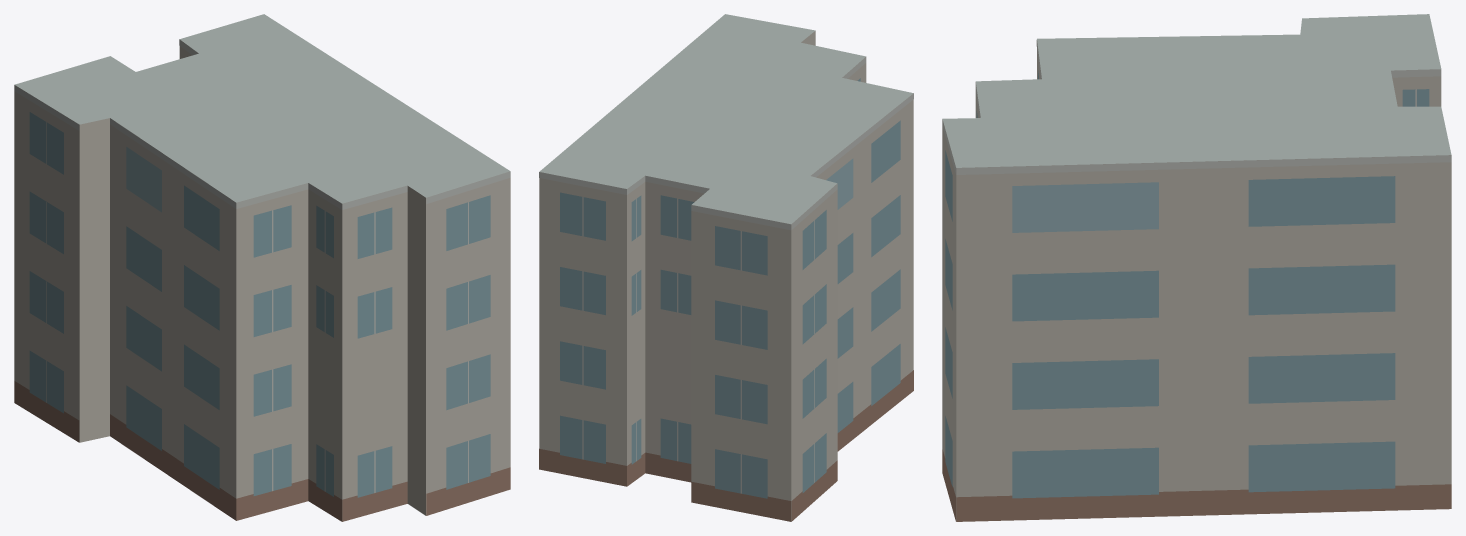
Rendered from survey-upis-32871107.glb.
3 renders of one model, left to right at view 1: azimuth 30°, elevation 25°; view 2: azimuth 150°, elevation 25°; view 3: azimuth 270°, elevation 25°, orthographic. The views are drawn at different scales.
Visible parts, largest first — view 1: survey-upis-32871107.tmp; view 2: survey-upis-32871107.tmp; view 3: survey-upis-32871107.tmp.
Part boxes in pixels (left/top/right/bottom): survey-upis-32871107.tmp: left=14, top=14, right=510, bottom=521; survey-upis-32871107.tmp: left=539, top=14, right=913, bottom=521; survey-upis-32871107.tmp: left=942, top=14, right=1451, bottom=521.
Size of the model in its own units: 11.3 by 12.1 by 15.79.
